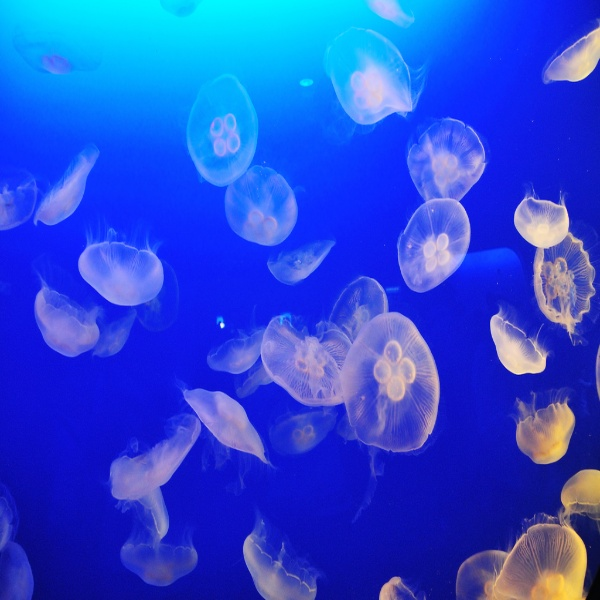Jellyfish: (206, 278, 440, 521), (105, 410, 200, 544), (319, 25, 427, 129), (489, 508, 589, 599), (183, 71, 258, 188), (75, 225, 167, 319), (532, 228, 598, 351), (394, 192, 471, 296), (179, 386, 270, 471), (221, 163, 306, 248), (403, 115, 484, 204), (241, 520, 319, 599), (33, 144, 98, 230), (117, 521, 196, 589), (36, 274, 98, 359), (513, 388, 576, 468), (9, 26, 100, 80), (491, 304, 550, 377), (512, 186, 567, 252), (543, 25, 599, 89), (267, 236, 334, 287), (455, 551, 509, 599), (559, 463, 599, 522), (0, 185, 43, 234), (0, 539, 33, 599), (0, 484, 21, 556), (377, 573, 421, 599)
